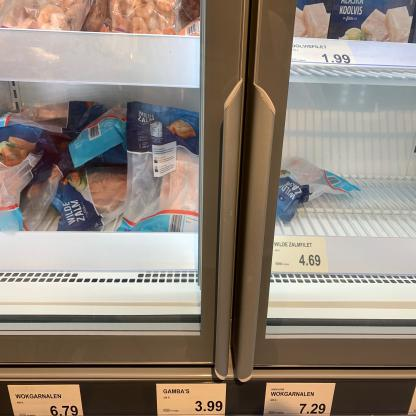prtg: (8, 385, 86, 416), (264, 383, 337, 416), (273, 236, 331, 276), (156, 384, 228, 416), (292, 39, 358, 65)
